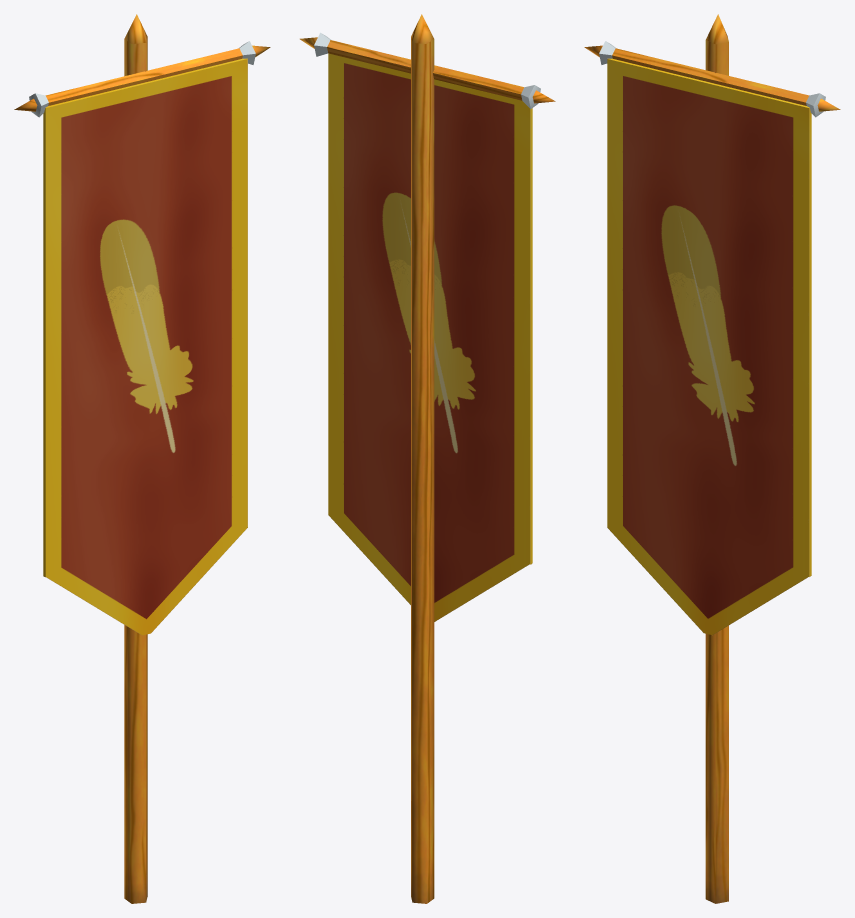
File: EagleFlagNormal.fbx
The picture shows the model from 3 angles, left to right: view 1: azimuth 30°, elevation 25°; view 2: azimuth 150°, elevation 25°; view 3: azimuth 330°, elevation 25°; orthographic projection.
Parts seen in each view (by area): view 1: EagleFlagBoring; view 2: EagleFlagBoring; view 3: EagleFlagBoring.
Part boxes in pixels (left/top/right/bottom): EagleFlagBoring: left=14, top=14, right=270, bottom=903; EagleFlagBoring: left=300, top=14, right=555, bottom=903; EagleFlagBoring: left=584, top=14, right=840, bottom=903.
Size of the model in its own units: 119 by 391 by 14.29.
